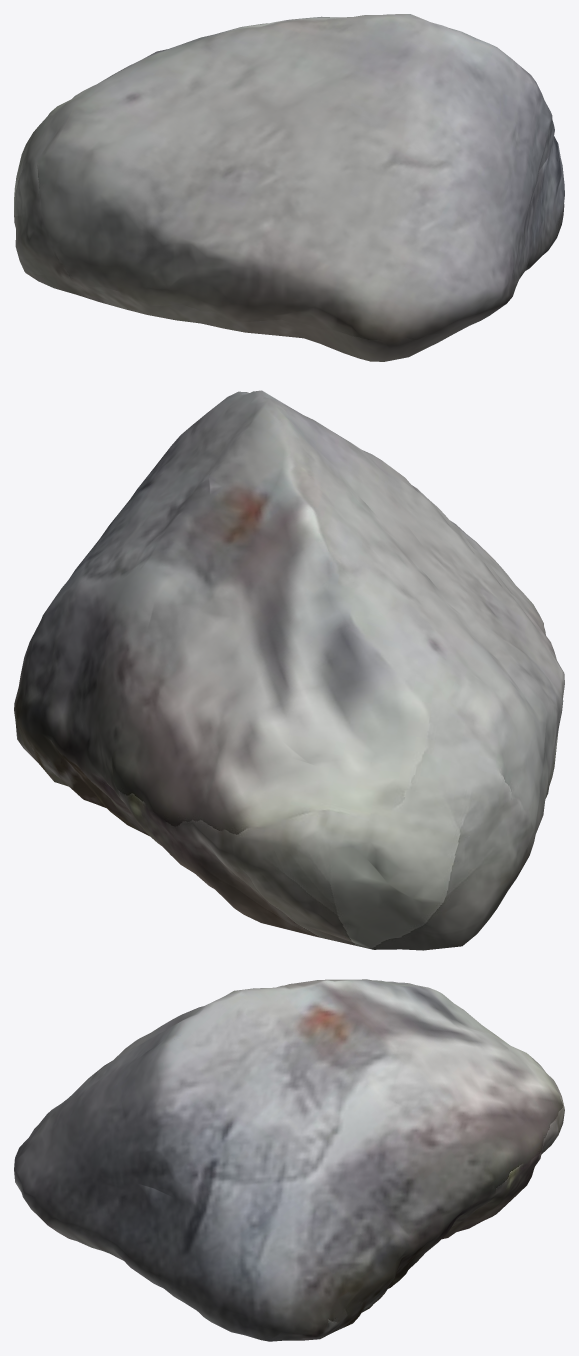
The model's file is boulder-b.glb.
The picture shows the model from 3 angles, top to bottom: view 1: azimuth 30°, elevation 25°; view 2: azimuth 150°, elevation 25°; view 3: azimuth 270°, elevation 25°; orthographic projection. The views are drawn at different scales.
Parts seen in each view (by area): view 1: boulder-b; view 2: boulder-b; view 3: boulder-b.
Part boxes in pixels (left/top/right/bottom): boulder-b: left=14, top=14, right=564, bottom=361; boulder-b: left=14, top=390, right=564, bottom=950; boulder-b: left=14, top=979, right=564, bottom=1341.
Size of the model in its own units: 1.48 by 0.864 by 1.56.
Materials: 1 (1 with a texture image).
